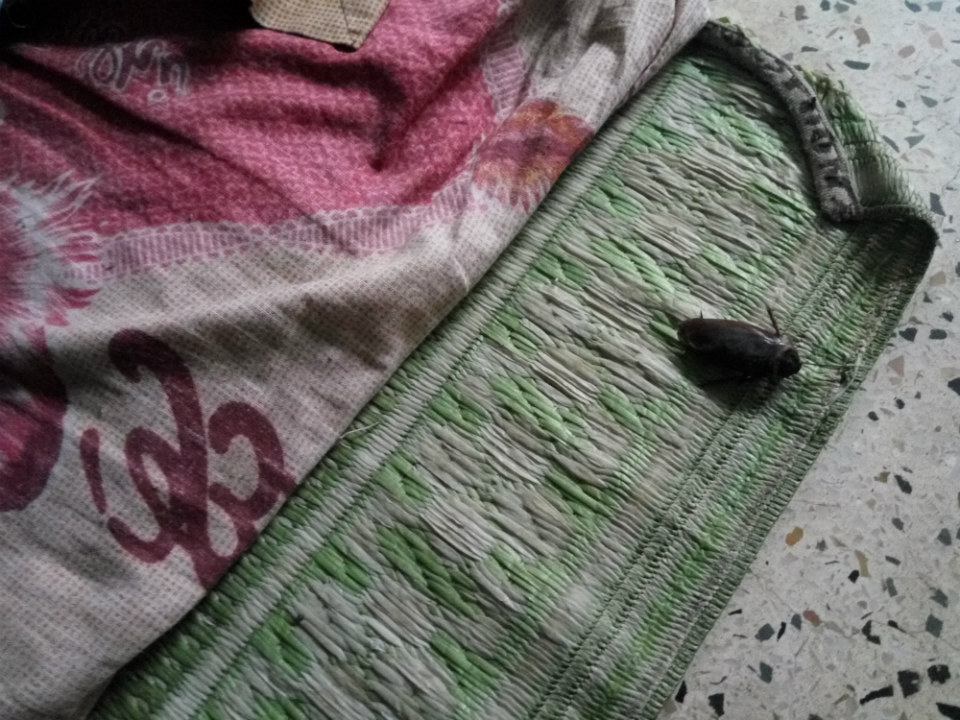cockroach: (656, 298, 831, 398)
